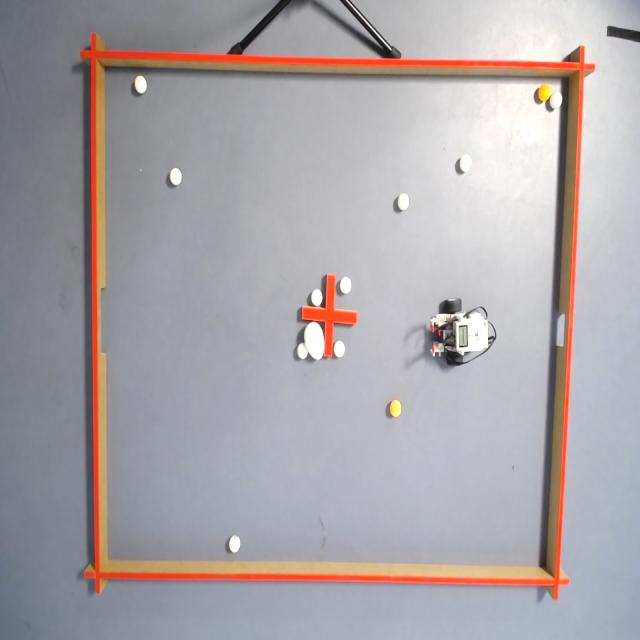boundaries: (544, 42, 598, 606), (73, 31, 595, 85), (83, 554, 571, 602), (79, 26, 113, 596)
cross: (301, 274, 359, 359)
egg: (304, 322, 326, 362)
large_goal: (80, 265, 116, 378)
orange_ball: (387, 395, 403, 420), (537, 82, 550, 105)
robot: (430, 298, 498, 368)
small_goal: (546, 295, 583, 368)
white_ball: (548, 87, 564, 112), (134, 75, 148, 96), (396, 190, 409, 212), (339, 275, 352, 296), (311, 286, 323, 306), (228, 534, 240, 554), (170, 166, 182, 186), (333, 340, 346, 357), (296, 344, 308, 361), (459, 156, 470, 174)
